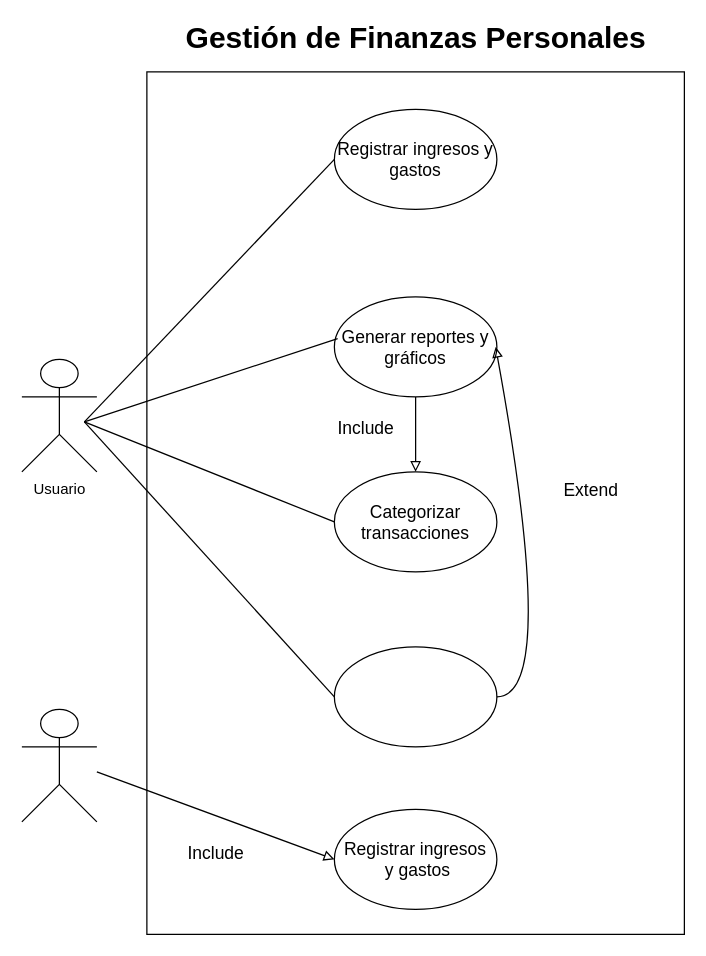
The diagram is 706 pixels wide and 956 high, and some of its shapes have lost their labels. The shapes that lost their labels are listed below. From the top down, each one's centre as x and y in pixels, then its label:
the point at 415,696: Configurar presupuestos y alertas
the point at 59,765: Banco
